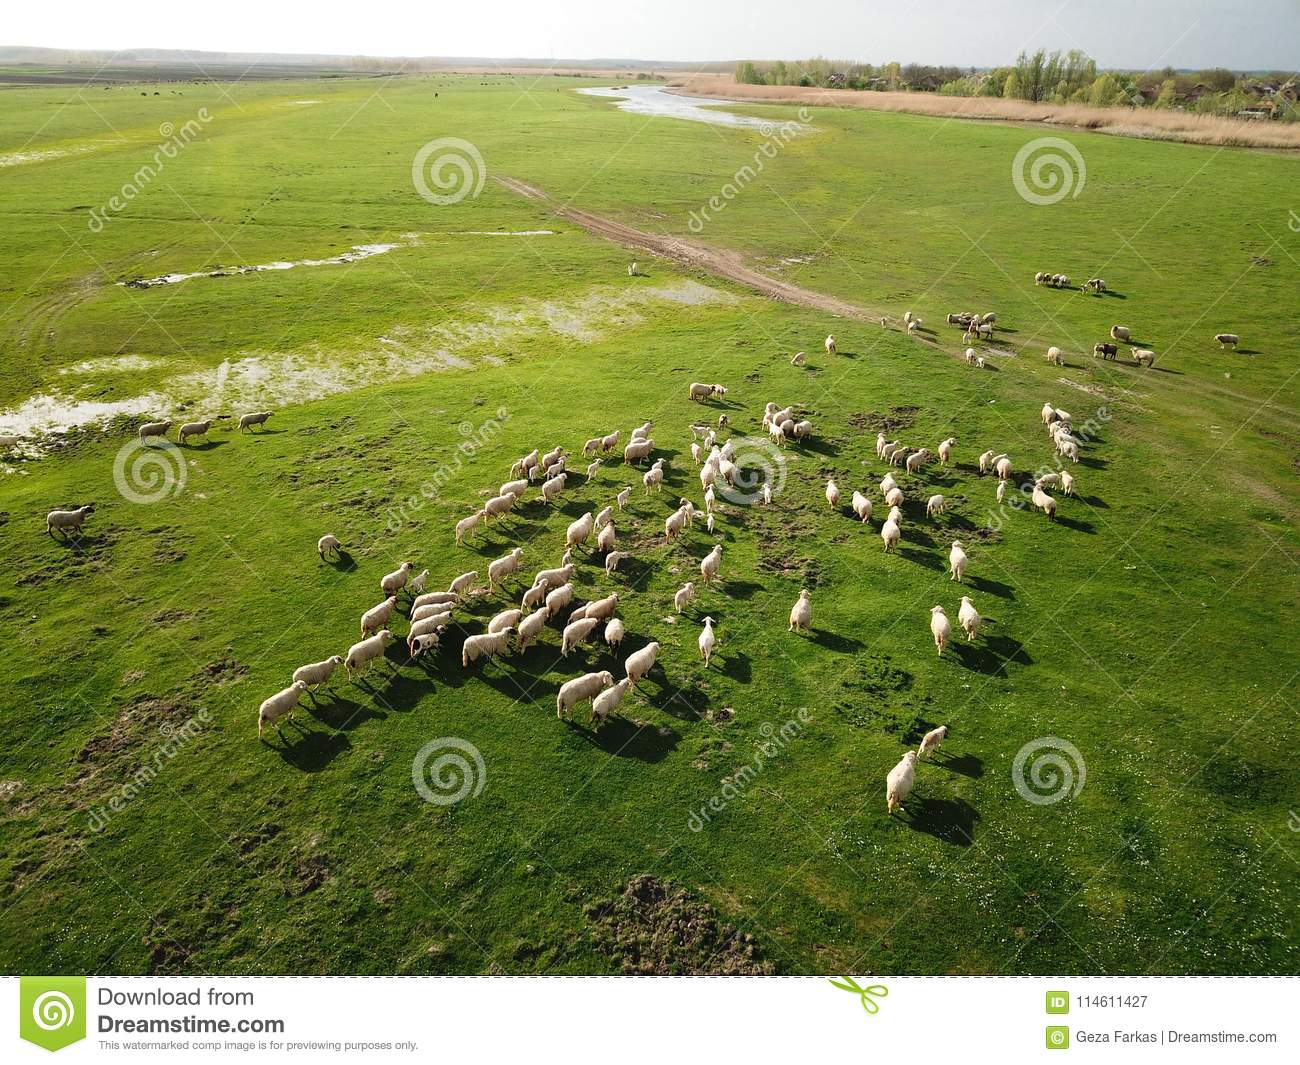sheep: (254, 680, 306, 729), (555, 668, 605, 715), (886, 751, 922, 815), (289, 655, 347, 695), (462, 628, 517, 666), (349, 632, 398, 669), (360, 598, 410, 633), (45, 503, 97, 535), (925, 605, 954, 658), (690, 615, 718, 668), (590, 679, 626, 719), (380, 563, 419, 599), (625, 642, 659, 683), (956, 595, 983, 643), (784, 591, 812, 636), (517, 610, 552, 647), (488, 545, 518, 587), (529, 561, 577, 587), (920, 724, 953, 756), (699, 545, 727, 583), (566, 511, 592, 550), (849, 487, 876, 522), (179, 418, 220, 441), (455, 514, 493, 538), (582, 592, 618, 618), (658, 509, 688, 539), (136, 419, 173, 444), (448, 570, 479, 598), (409, 612, 457, 631), (1030, 485, 1056, 518), (484, 496, 518, 521), (414, 592, 463, 608), (239, 409, 277, 430), (950, 540, 969, 582), (517, 581, 546, 607), (699, 448, 722, 480), (410, 634, 442, 658), (675, 583, 698, 616), (411, 603, 463, 617), (591, 502, 615, 531), (316, 528, 341, 555), (716, 454, 740, 482), (624, 443, 656, 463), (677, 498, 699, 528), (499, 478, 529, 500), (608, 618, 628, 649), (547, 584, 574, 608), (594, 522, 615, 551), (601, 430, 626, 455), (924, 494, 950, 517), (905, 445, 931, 469), (541, 476, 566, 500), (599, 550, 625, 571), (824, 478, 843, 507), (587, 456, 611, 478), (1130, 347, 1157, 366), (644, 470, 666, 493), (1035, 472, 1060, 493), (545, 457, 571, 476), (884, 515, 899, 548), (1056, 466, 1073, 494), (492, 610, 517, 630), (581, 436, 608, 454), (793, 418, 811, 443), (939, 437, 956, 466), (1058, 439, 1078, 461), (686, 383, 715, 399), (618, 485, 637, 508), (570, 601, 590, 623), (629, 422, 656, 439), (699, 482, 717, 505), (1046, 345, 1064, 369), (541, 447, 565, 464), (964, 348, 983, 369), (759, 483, 776, 505), (507, 459, 530, 476), (1111, 325, 1132, 343), (905, 316, 923, 337), (522, 451, 543, 469), (998, 456, 1015, 476), (884, 441, 904, 458), (766, 419, 783, 439), (996, 478, 1010, 502), (773, 409, 797, 423), (824, 334, 839, 355), (789, 353, 811, 368), (778, 420, 796, 439), (688, 442, 704, 461), (976, 324, 997, 339), (979, 449, 992, 473), (1041, 401, 1055, 422), (689, 424, 710, 439), (1101, 342, 1119, 360), (871, 432, 884, 455), (1051, 427, 1070, 442), (650, 458, 669, 473), (891, 449, 909, 464), (415, 569, 432, 584), (979, 311, 999, 324), (903, 311, 916, 331), (721, 439, 736, 455), (1054, 409, 1071, 423), (716, 414, 733, 428), (705, 511, 716, 532), (1089, 278, 1107, 291), (948, 314, 969, 325), (712, 383, 726, 399), (1052, 274, 1066, 288), (766, 402, 785, 412), (701, 436, 715, 448), (1059, 277, 1071, 286), (1034, 273, 1044, 283), (1045, 274, 1051, 285)
